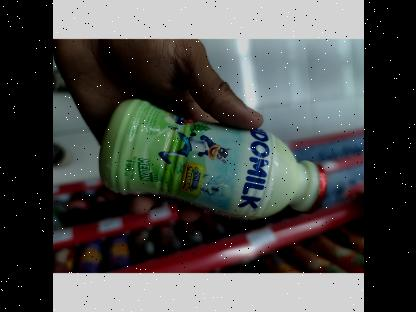Others: (98, 96, 334, 214)
